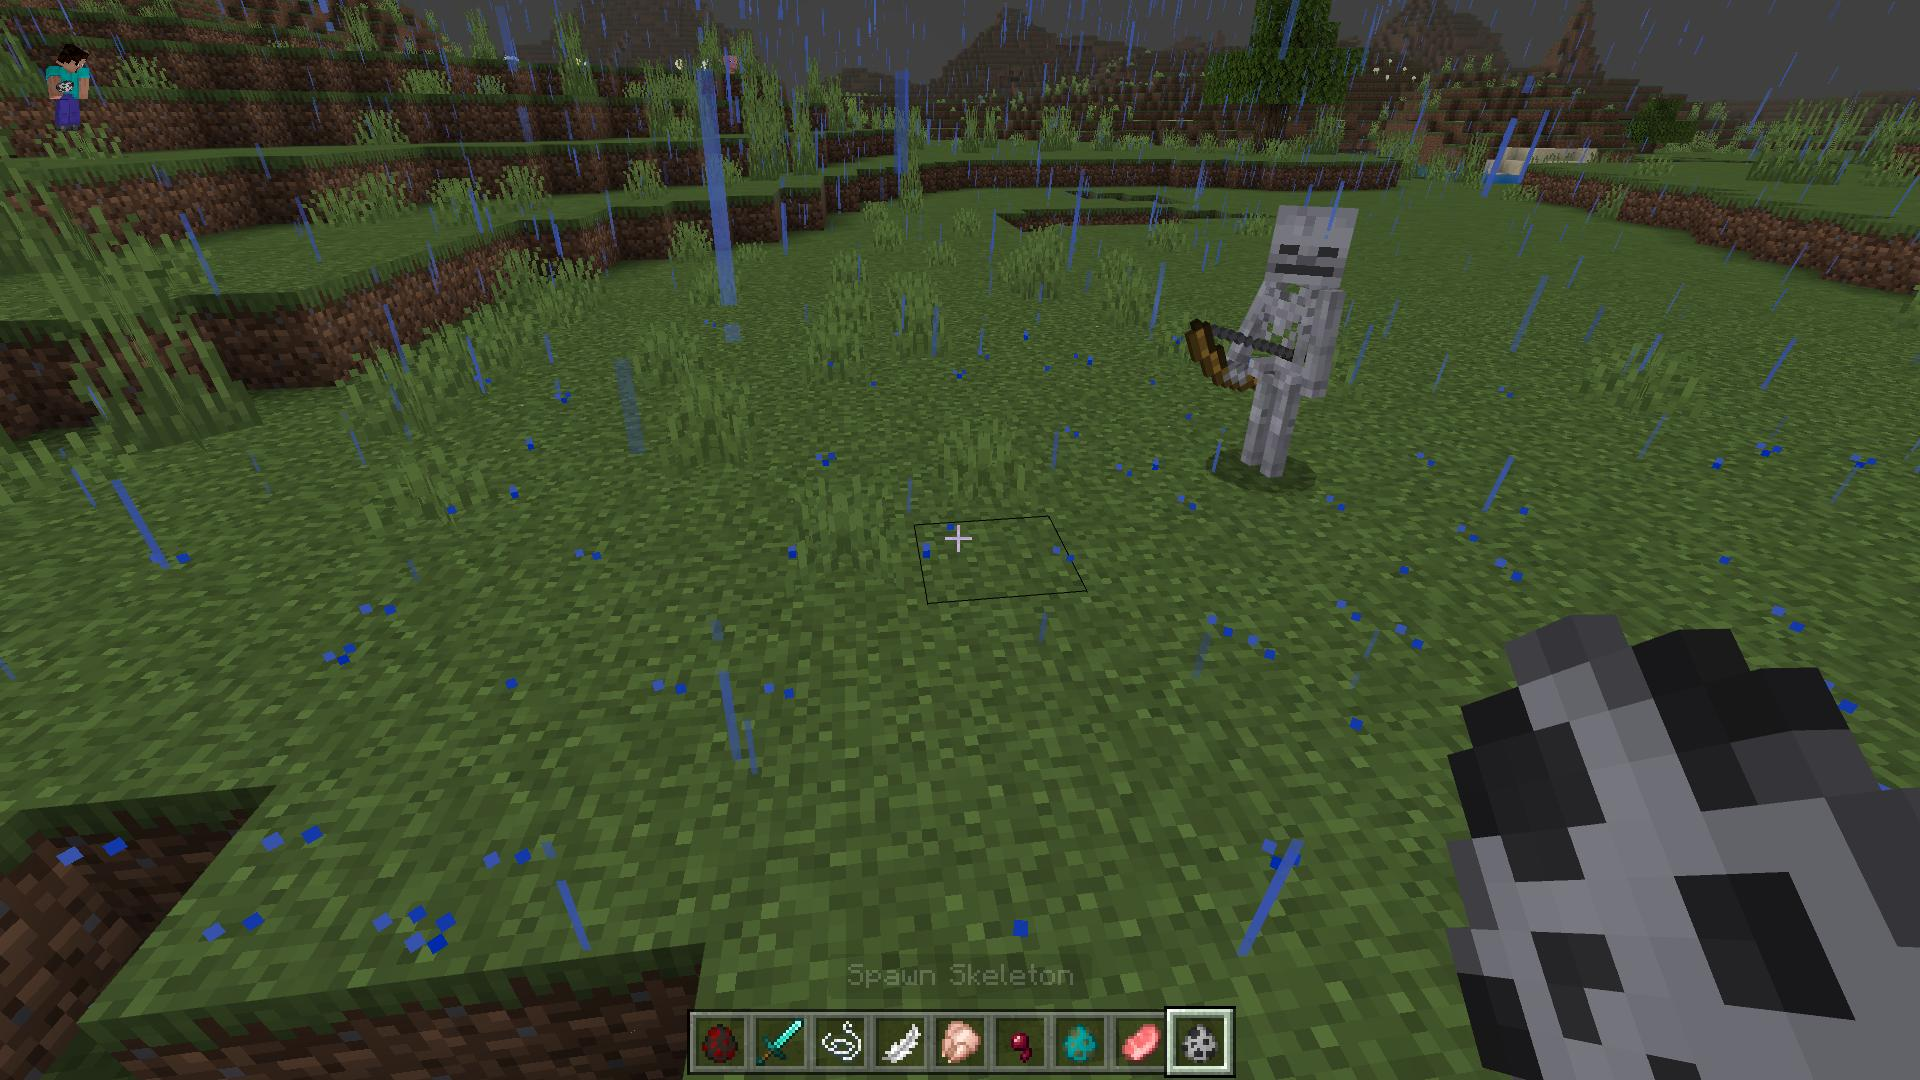skeleton: (1189, 200, 1360, 488)
